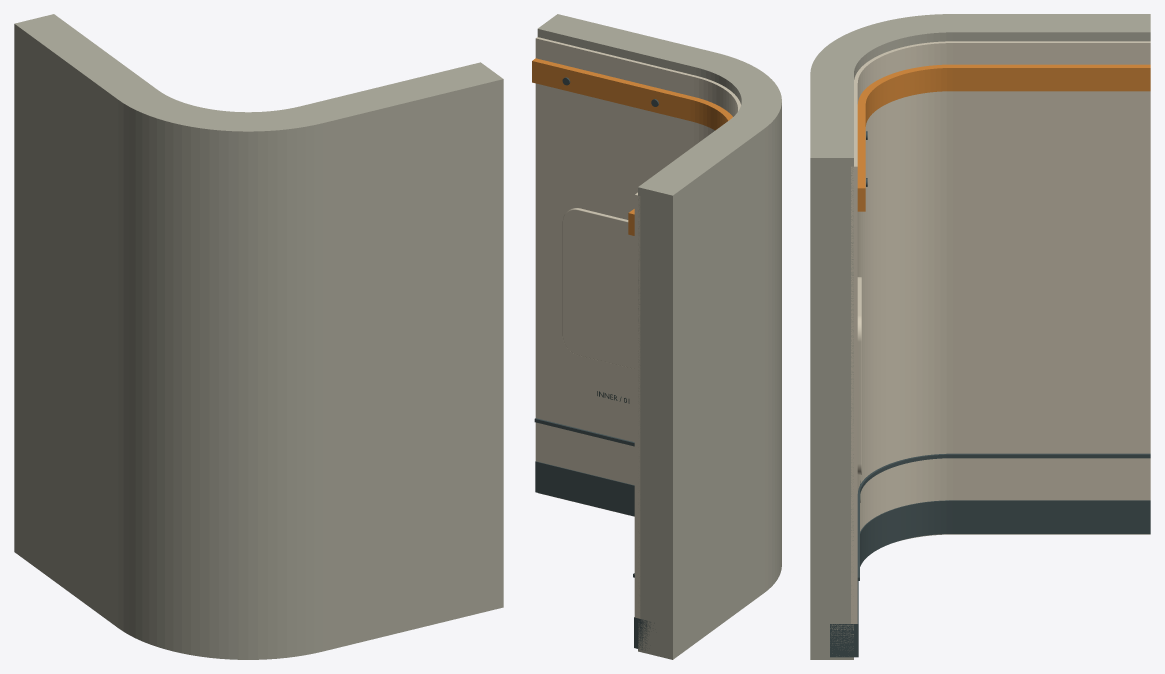
File: wall-inner-corner-2m.glb
3 renders of one model, left to right at view 1: azimuth 30°, elevation 25°; view 2: azimuth 150°, elevation 25°; view 3: azimuth 270°, elevation 25°, orthographic. The views are drawn at different scales.
Parts seen in each view (by area): view 1: wall-inner-corner-2m / 02 • inner shell; view 2: wall-inner-corner-2m / 02 • inner shell, wall-inner-corner-2m / 01 • warm porcelain paint, wall-inner-corner-2m / 03 • ochre enamel, wall-inner-corner-2m / 06 • dark anodized frame; view 3: wall-inner-corner-2m / 01 • warm porcelain paint, wall-inner-corner-2m / 02 • inner shell, wall-inner-corner-2m / 06 • dark anodized frame, wall-inner-corner-2m / 03 • ochre enamel.
Boxes of the visible parts, x1,y1,x2,y2 form: wall-inner-corner-2m / 02 • inner shell: (14,14,503,659); wall-inner-corner-2m / 02 • inner shell: (537,14,781,659); wall-inner-corner-2m / 01 • warm porcelain paint: (535,37,740,618); wall-inner-corner-2m / 03 • ochre enamel: (532,58,732,235); wall-inner-corner-2m / 06 • dark anodized frame: (534,77,658,650); wall-inner-corner-2m / 01 • warm porcelain paint: (851,41,1150,623); wall-inner-corner-2m / 02 • inner shell: (810,14,1150,659); wall-inner-corner-2m / 06 • dark anodized frame: (830,131,1150,657); wall-inner-corner-2m / 03 • ochre enamel: (857,64,1150,211).
Size of the model in its own units: 1.72 by 2.8 by 1.72.
